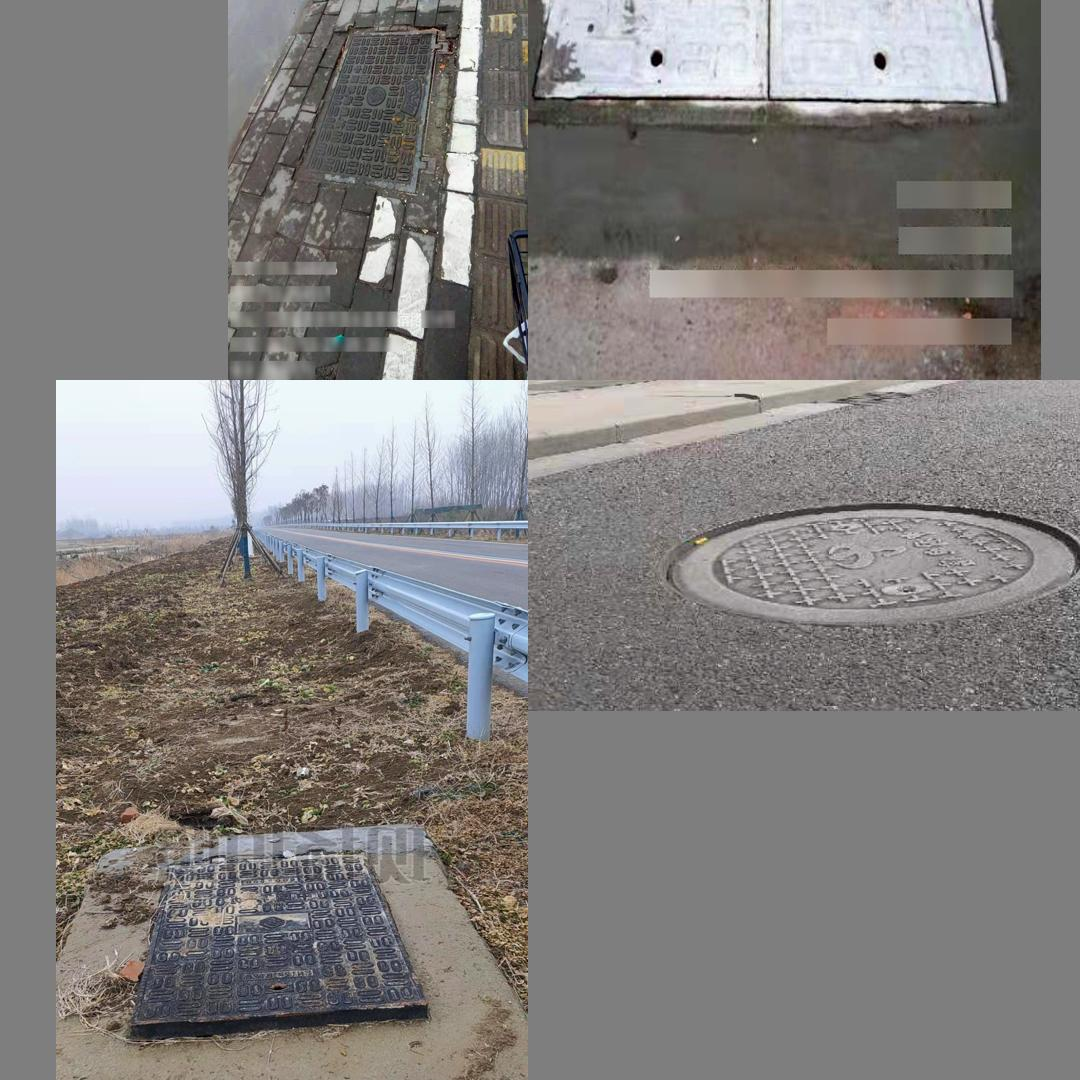good: (642, 493, 1080, 640), (120, 846, 432, 1039), (528, 0, 1005, 120), (294, 27, 452, 197)
